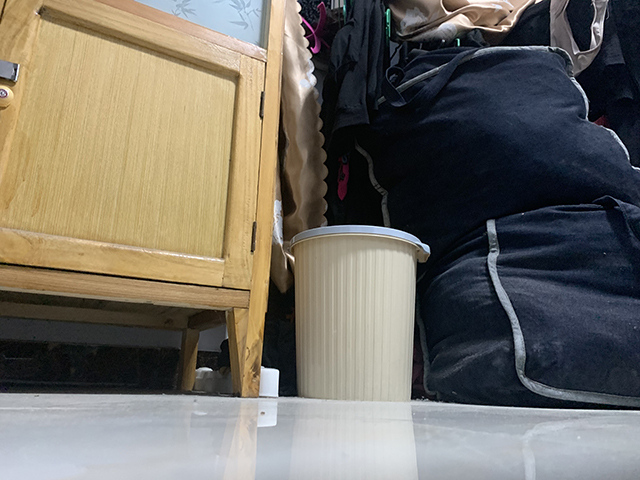cabinet: (1, 1, 288, 399)
trashcan: (288, 224, 432, 403)
